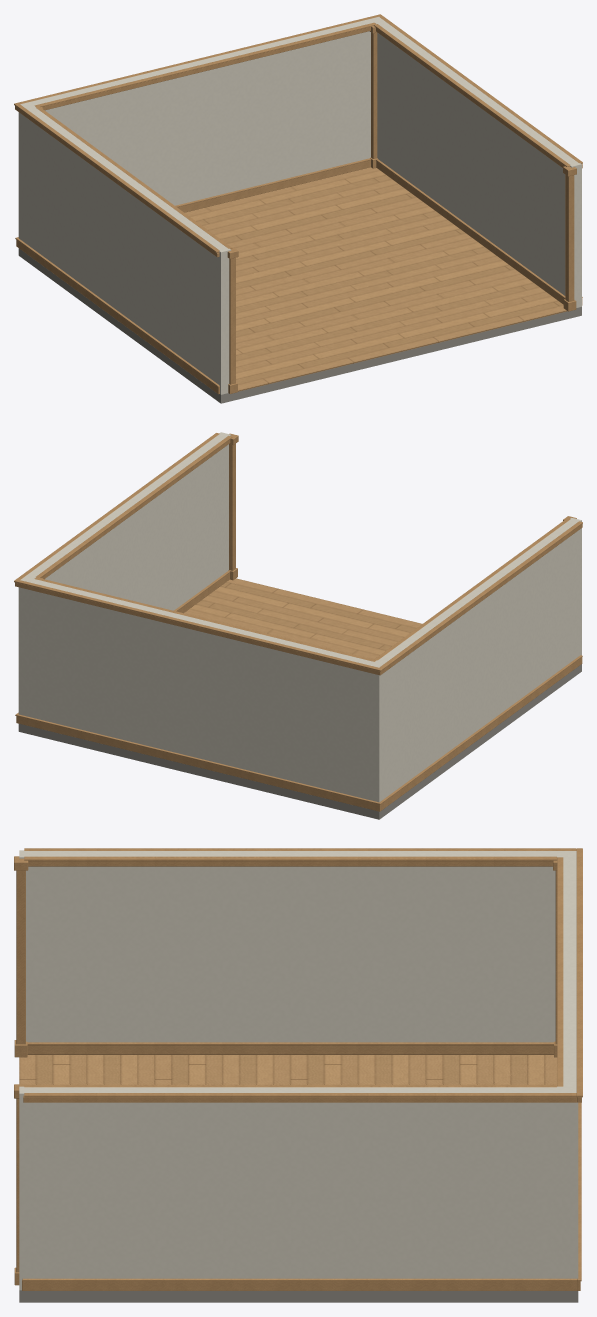
The model's file is front.glb.
3 renders of one model, top to bottom at view 1: azimuth 30°, elevation 25°; view 2: azimuth 150°, elevation 25°; view 3: azimuth 270°, elevation 25°, orthographic. The views are drawn at different scales.
Parts seen in each view (by area): view 1: Wall_Upper (×3), Floor, Wall_Lower (×3), Trim_Upper (×3), Trim_Lower (×3), Oak_Column (×3), Floor_Foundation, Wall_Foundation; view 2: Wall_Upper (×3), Wall_Lower (×3), Trim_Upper (×3), Floor, Trim_Lower (×3), Wall_Foundation (×2), Oak_Column; view 3: Wall_Upper (×3), Wall_Lower (×3), Trim_Upper (×3), Floor, Trim_Lower (×3), Wall_Foundation, Oak_Column (×2).
Boxes of the visible parts, x1,y1,x2,y2 form: Wall_Upper (×3): [18, 17, 581, 353]; Floor: [184, 167, 567, 391]; Wall_Lower (×3): [18, 125, 581, 394]; Trim_Upper (×3): [14, 14, 582, 257]; Trim_Lower (×3): [15, 158, 582, 394]; Oak_Column (×3): [229, 32, 574, 384]; Floor_Foundation: [231, 311, 571, 400]; Wall_Foundation: [24, 252, 231, 403]; Wall_Upper (×3): [18, 432, 581, 769]; Wall_Lower (×3): [18, 538, 581, 802]; Trim_Upper (×3): [14, 433, 582, 675]; Floor: [184, 578, 421, 659]; Trim_Lower (×3): [15, 571, 582, 811]; Wall_Foundation (×2): [18, 664, 581, 819]; Oak_Column: [229, 444, 235, 570]; Wall_Upper (×3): [19, 850, 578, 1233]; Wall_Lower (×3): [19, 997, 578, 1290]; Trim_Upper (×3): [23, 848, 582, 1102]; Floor: [19, 1055, 557, 1084]; Trim_Lower (×3): [22, 1042, 581, 1290]; Wall_Foundation: [19, 1290, 561, 1302]; Oak_Column (×2): [16, 870, 25, 1272].
Bounding box in the file's own units: 8.62 × 3.4 × 8.39.
4 materials, 3 textured.
